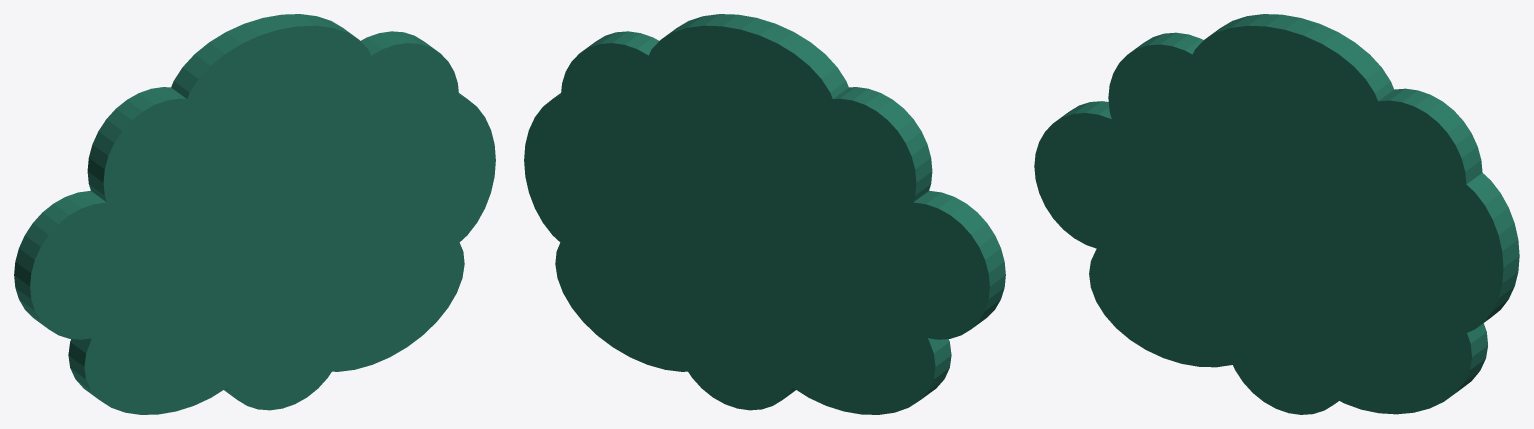
Rendered from grass.obj.
3 renders of one model, left to right at view 1: azimuth 30°, elevation 25°; view 2: azimuth 150°, elevation 25°; view 3: azimuth 330°, elevation 25°, orthographic.
Parts seen in each view (by area): view 1: 円柱.008; view 2: 円柱.008; view 3: 円柱.008.
Boxes of the visible parts, x1,y1,x2,y2 form: 円柱.008: [14, 14, 495, 414]; 円柱.008: [524, 14, 1005, 414]; 円柱.008: [1034, 14, 1519, 414].
Size of the model in its own units: 2.48 by 1.93 by 0.1475.
Materials: 1 (1 with a texture image).
